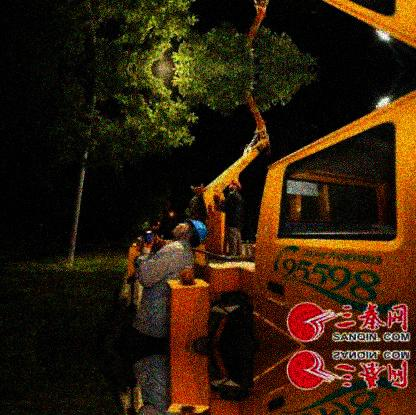helmet: (172, 218, 209, 249), (229, 180, 242, 193)
